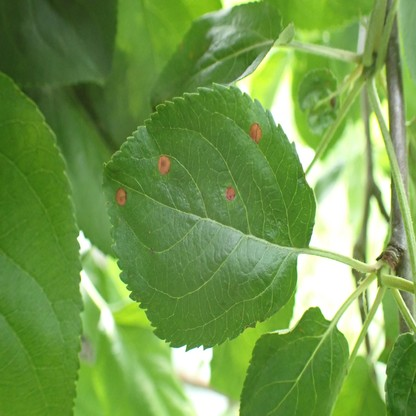frogeye_leaf_spot: (249, 123, 261, 144), (158, 155, 170, 173), (116, 188, 127, 205), (226, 187, 236, 201)
